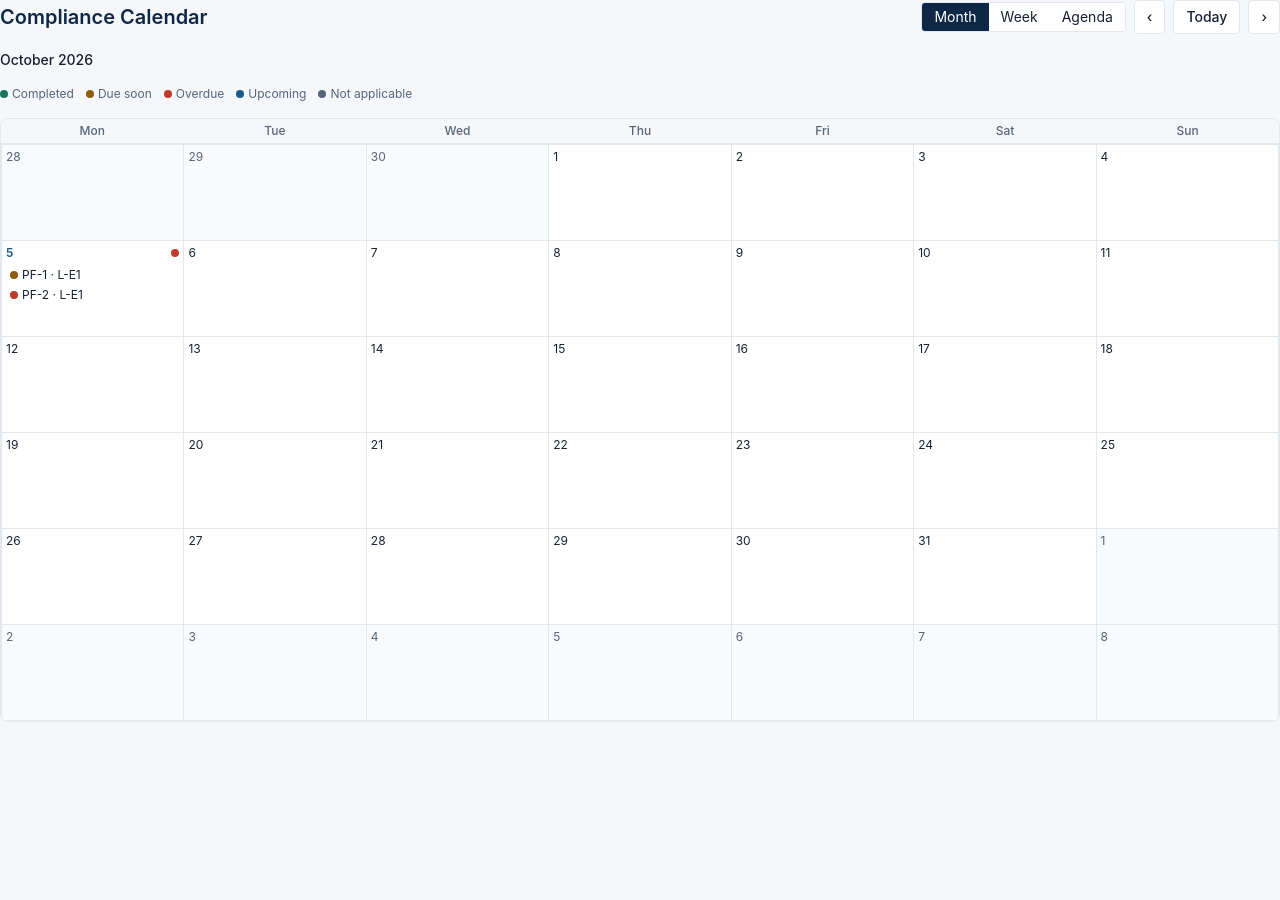
Scenario: CalendarPage › renders items on their due date and opens the day panel on click
This screenshot has width=1280, height=900.
What coordinates should you click on to do the following:
click the 1st button "5"
I would click on:
 (93, 253)
Its box is [6,245,179,261].
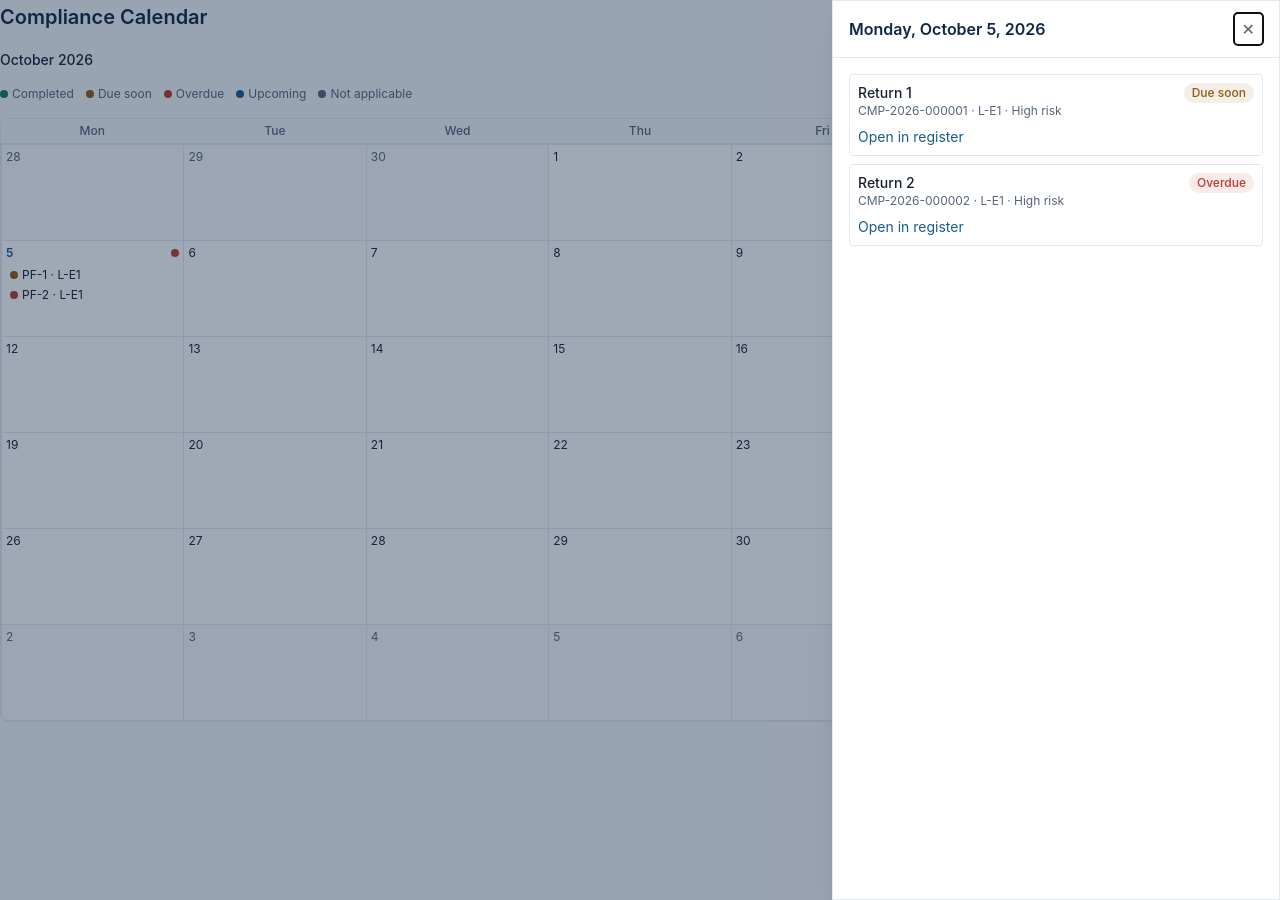
Check: the list item "Overdue" is shown, box [164,86,224,102]
Check: the text "Return 1" is shown, box [858,84,912,101]
Check: the text "Return 2" is shown, box [858,174,915,191]
